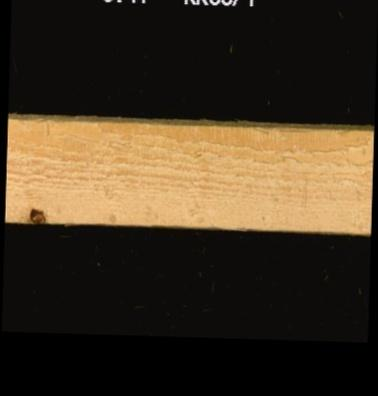edge_knot: (26, 206, 46, 224)
split: (276, 124, 313, 135)
